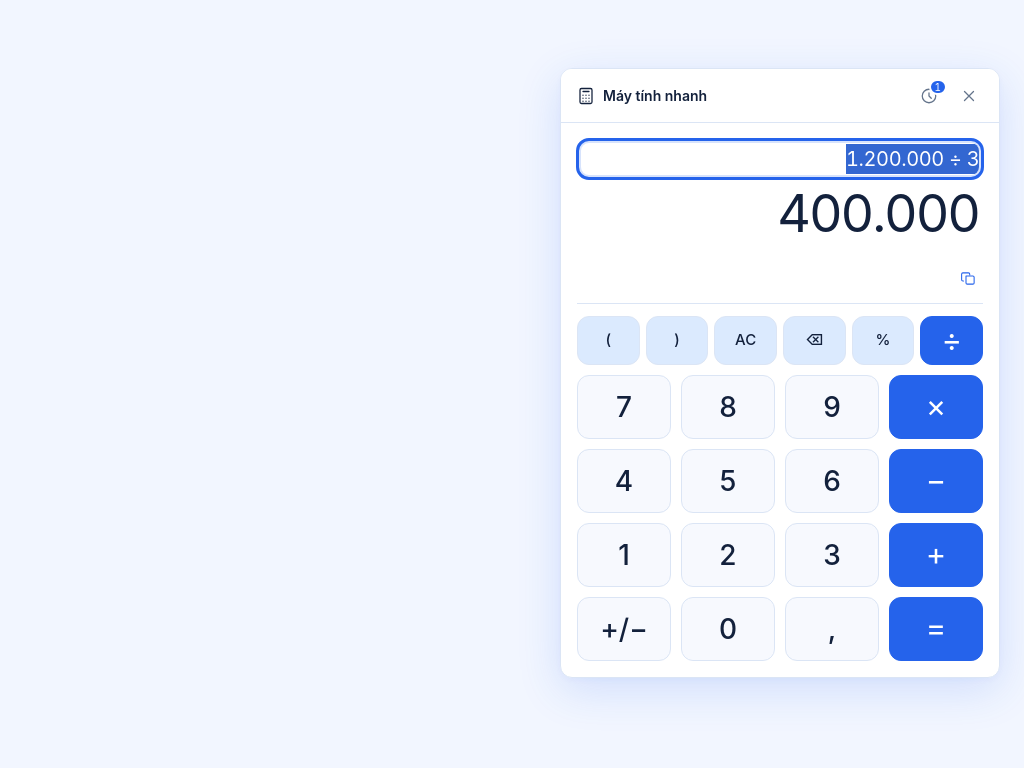
Test case: QuickCalculatorPanel › restores the previous expression and history from local storage
Expected: the field named "Biểu thức tính" holds "1.200.000 ÷ 3", [581,143,979,175]
Expected: the text "400.000" is shown, [777,182,979,245]
Click the button named "Hiện lịch sử phép tính" at (929, 96), box [911,78,947,114]
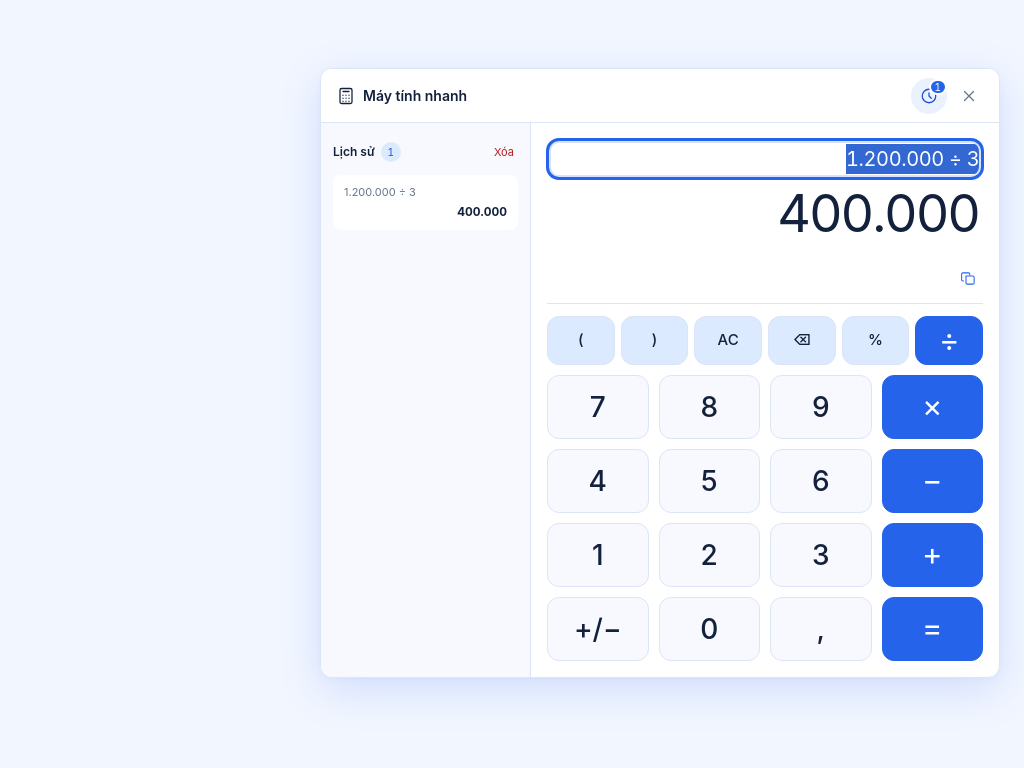
Result: the button "1.200.000 ÷ 3 400.000" is shown at [333,175,518,230]
